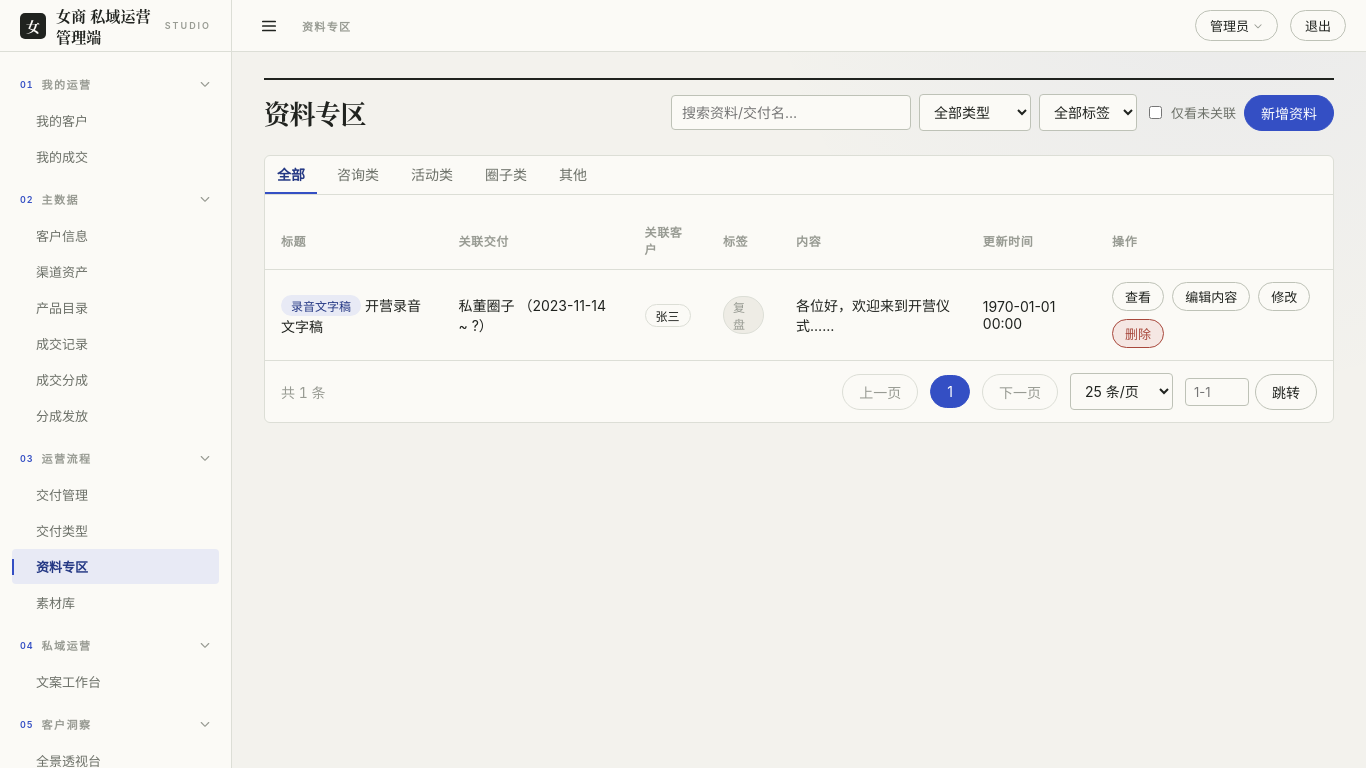
Test: 资料专区 › 查看资料：GET 详情后只读展示完整 content
Expected: the text "开营录音文字稿" is shown, top-left (281, 296), bottom-right (421, 334)
Click the button "查看".
click(1138, 296)  # box top-left (1112, 282), bottom-right (1164, 311)
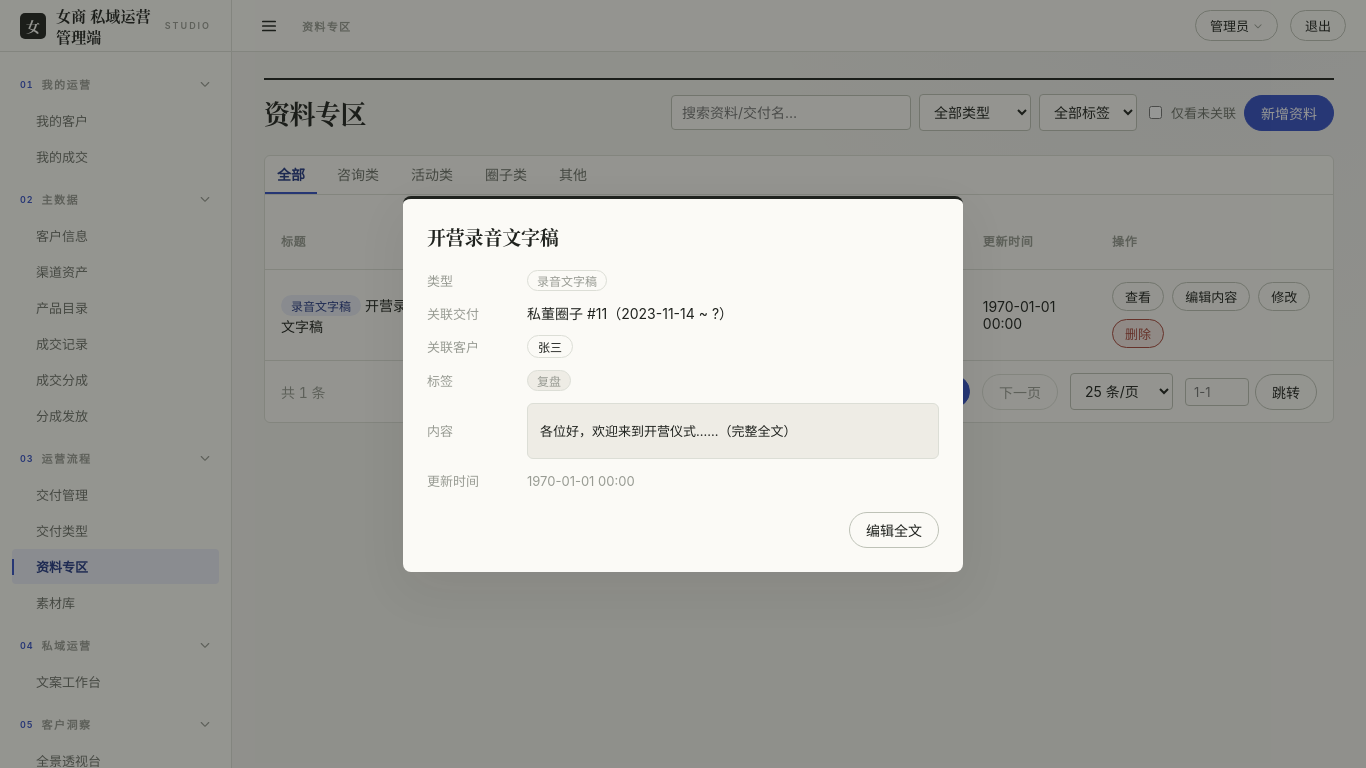
Result: the text "各位好，欢迎来到开营仪式……（完整全文）" is shown at top-left (540, 423), bottom-right (796, 439)
Result: the text "张三" is shown at top-left (527, 335), bottom-right (573, 358)
